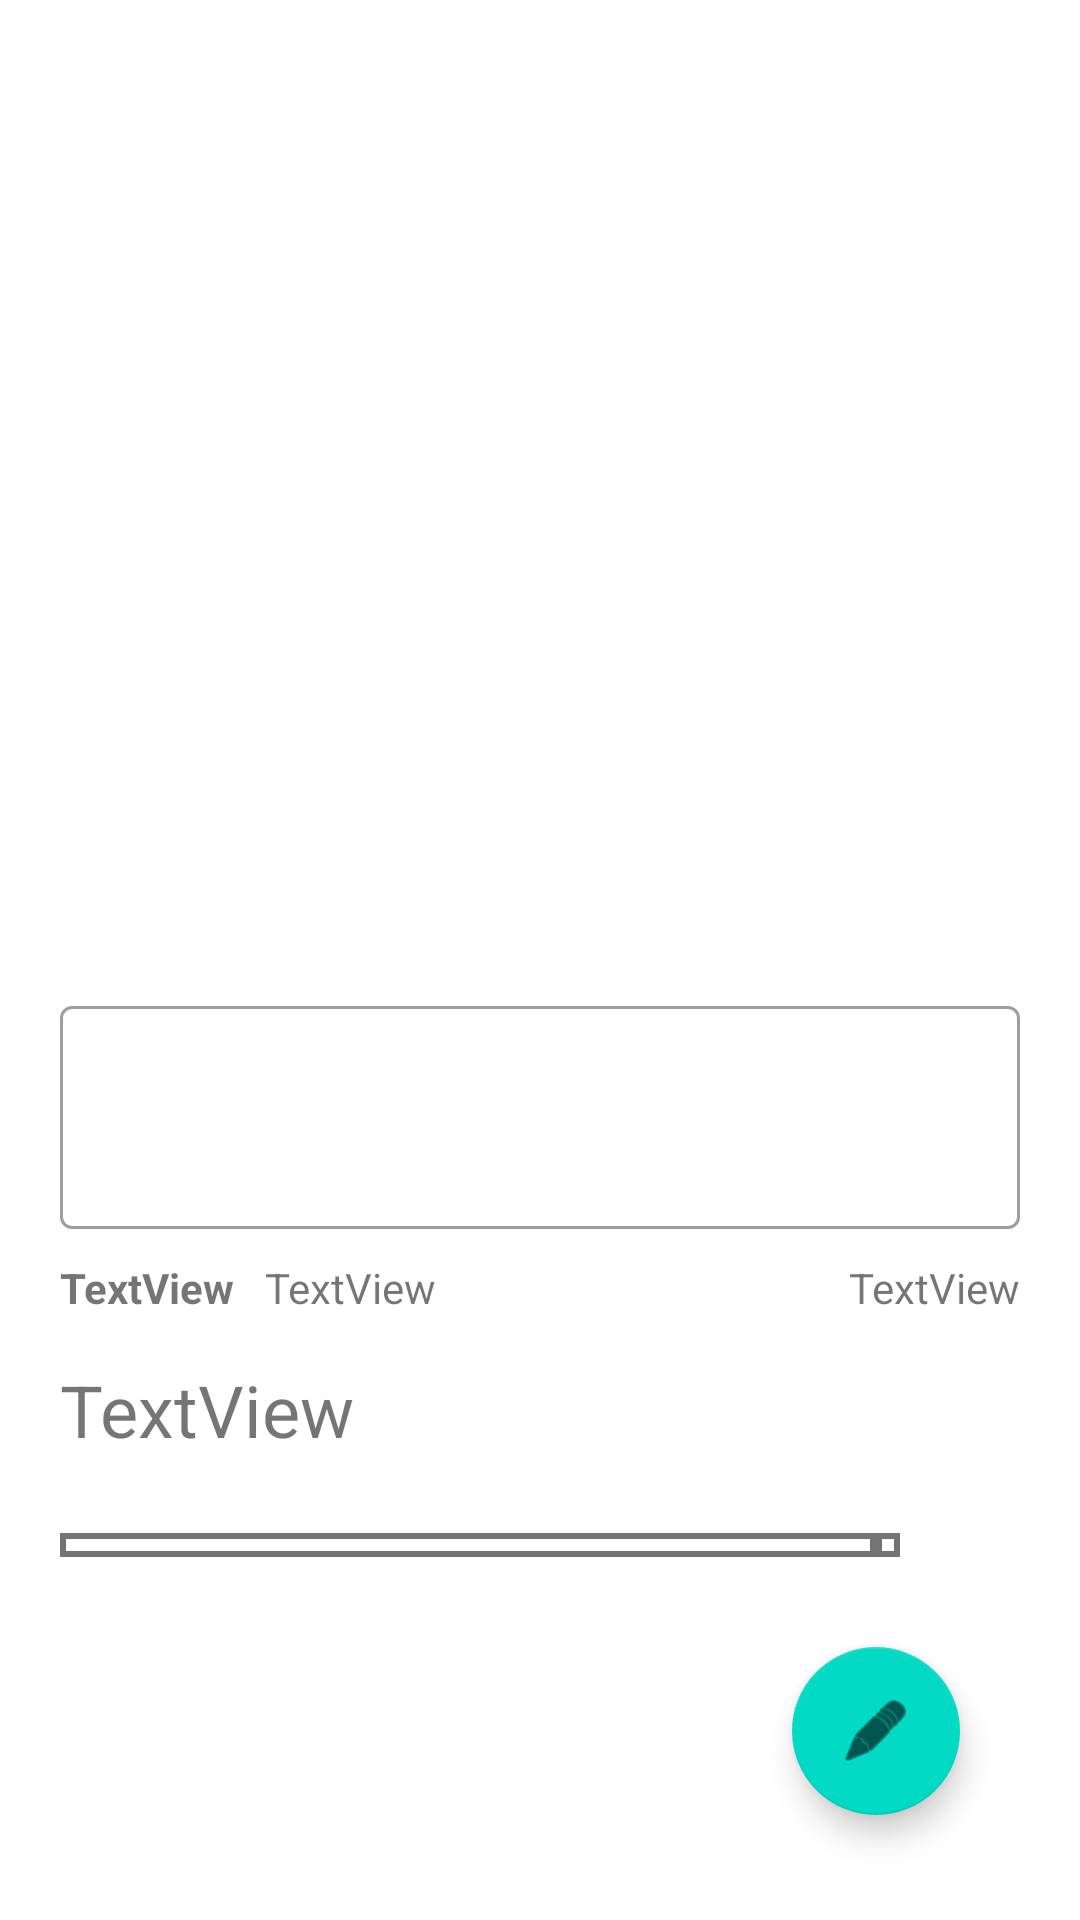

Locate icon controls on the screen. Image size 1080 × 1920, boxes as [x1, y1, x2, y2].
edit: [792, 1647, 960, 1815]
